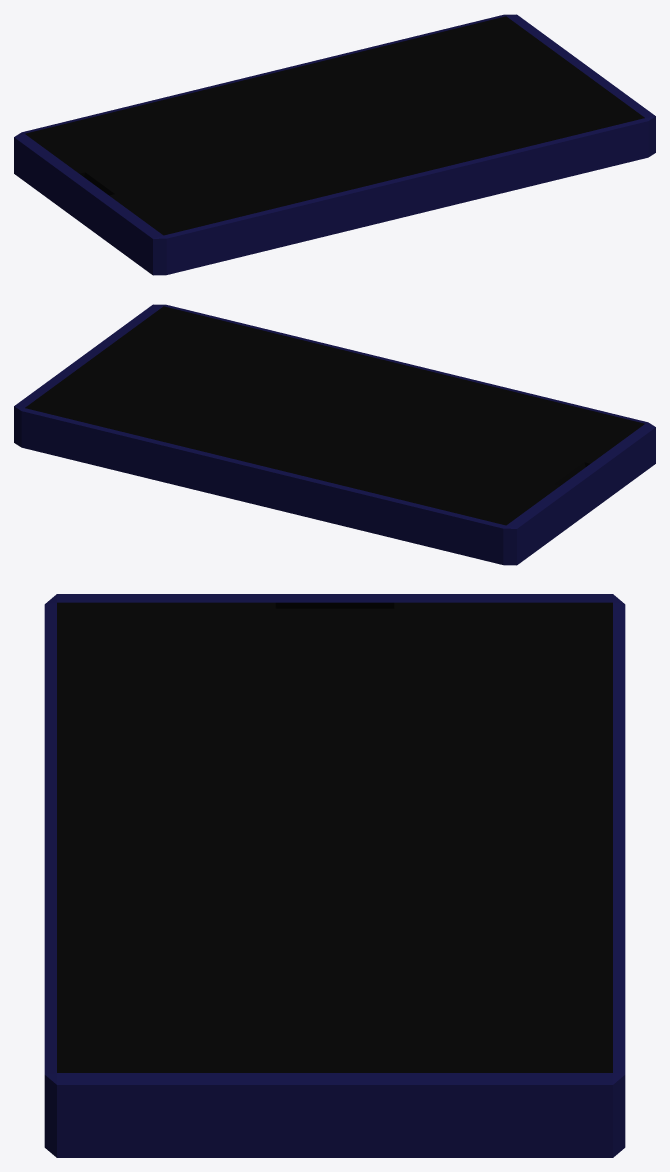
Rendered from Phone.fbx.
The picture shows the model from 3 angles, top to bottom: view 1: azimuth 30°, elevation 25°; view 2: azimuth 150°, elevation 25°; view 3: azimuth 270°, elevation 25°; orthographic projection. The views are drawn at different scales.
Parts seen in each view (by area): view 1: Cube; view 2: Cube; view 3: Cube.
Boxes of the visible parts, box(x1,y1,x2,y2) form: Cube: box(14, 14, 655, 275); Cube: box(14, 304, 655, 565); Cube: box(44, 594, 625, 1157).
Size of the model in its own units: 400 by 28.99 by 200.
